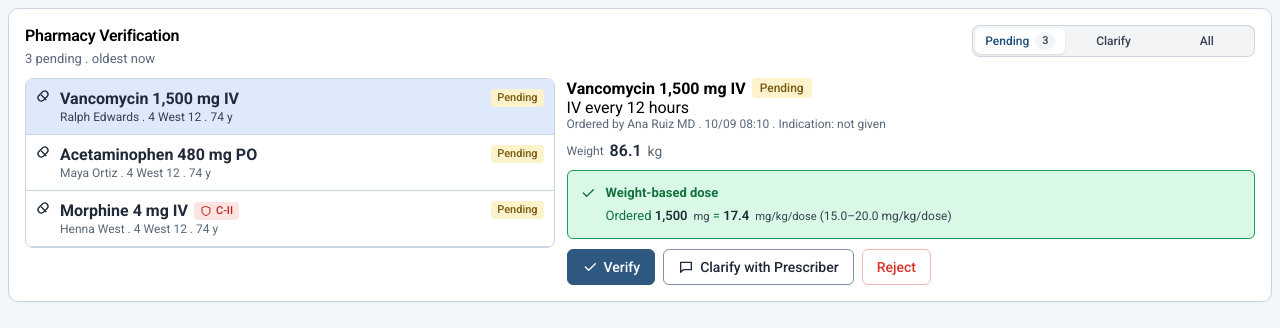
Test: PharmacyVerificationQueue › checks the weight-based dose: within range verifies
Click the button "Verify": (611, 267) [567, 249, 655, 285]
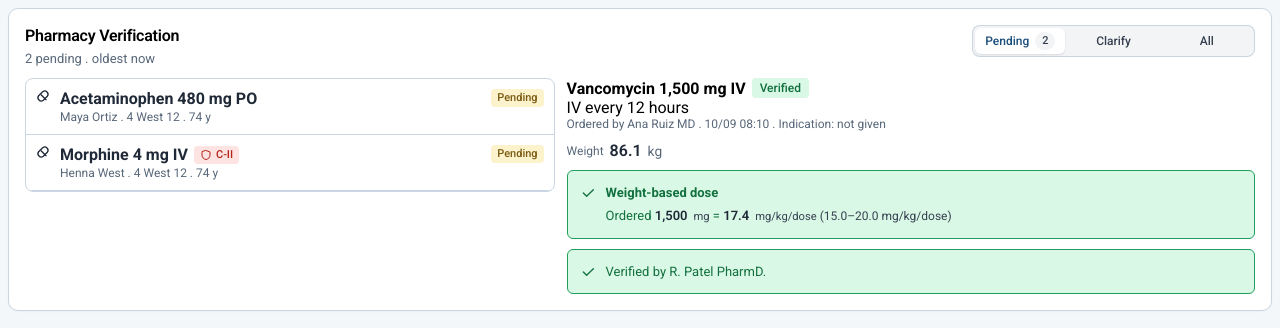
Now the text "Verified by R. Patel PharmD." is shown, box [606, 264, 766, 279]
Now the number of options is 2, box [26, 79, 554, 135]; [26, 135, 554, 191]
Now the text "2 pending . oldest now" is shown, box [25, 51, 155, 66]
